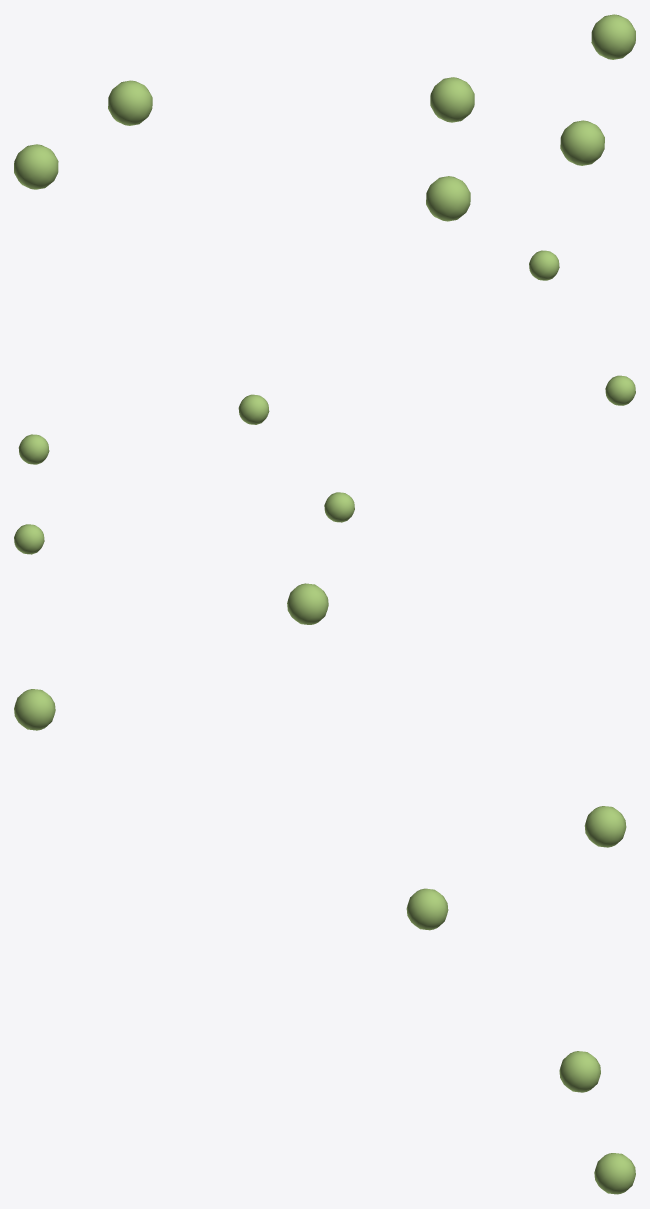
The model's file is inferior-diaphragmatic-nodes.glb.
3 renders of one model, top to bottom at view 1: azimuth 30°, elevation 25°; view 2: azimuth 150°, elevation 25°; view 3: azimuth 270°, elevation 25°, orthographic. The views are drawn at different scales.
Visible parts, largest first — view 1: Inferior diaphragmatic nodes; view 2: Inferior diaphragmatic nodes; view 3: Inferior diaphragmatic nodes.
Boxes of the visible parts, <box> form: Inferior diaphragmatic nodes: <box>14,14,635,221</box>; Inferior diaphragmatic nodes: <box>14,250,635,554</box>; Inferior diaphragmatic nodes: <box>14,583,635,1194</box>.
Bounding box in the file's own units: 0.0499 × 0.0204 × 0.0383.
